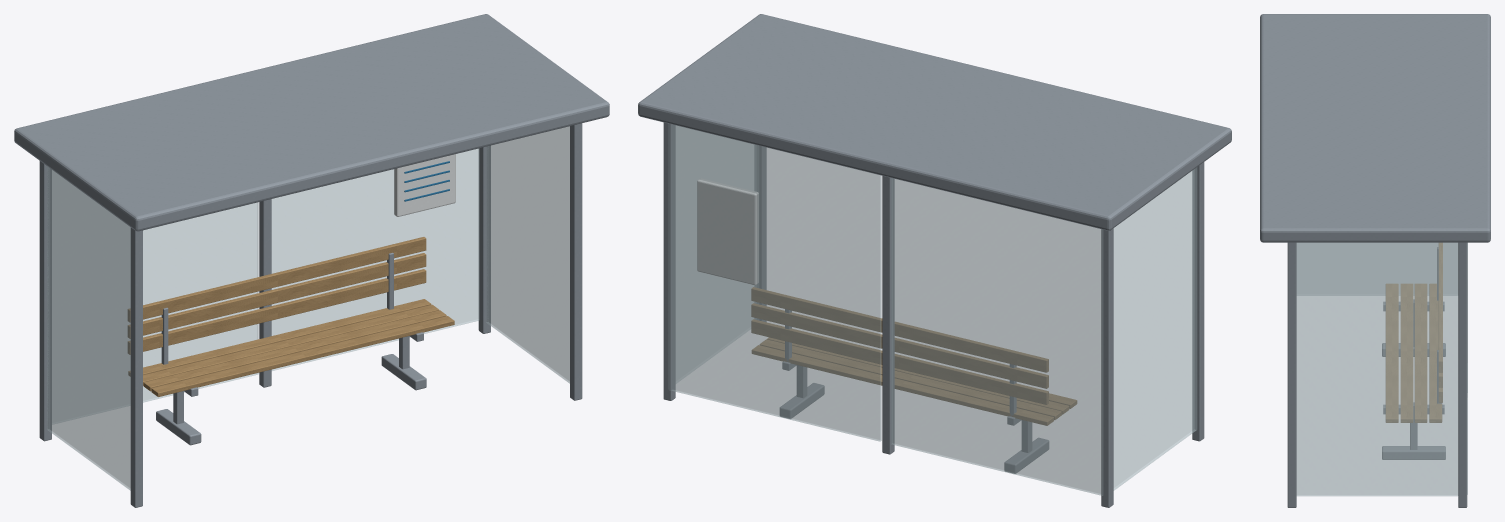
Rendered from bus-shelter.glb.
3 renders of one model, left to right at view 1: azimuth 30°, elevation 25°; view 2: azimuth 150°, elevation 25°; view 3: azimuth 270°, elevation 25°, orthographic. The views are drawn at different scales.
Visible parts, largest first — view 1: Shelter roof, Rear windscreen, Side windscreen, Rear windscreen.001, Side windscreen.001, Bench back slat.002, Bench back slat, Bench back slat.001, Shelter front post, Shelter front post.001, Shelter rear post, Bench seat slat (+8 smaller); view 2: Shelter roof, Rear windscreen.001, Rear windscreen, Side windscreen, Side windscreen.001, Timetable panel, Bench back slat.002, Bench back slat, Bench back slat.001, Shelter rear post, Shelter rear post.001, Shelter rear post.002 (+7 smaller); view 3: Shelter roof, Side windscreen.001, Side windscreen, Shelter front post.001, Shelter rear post.002, Bench seat slat, Bench seat slat.001, Bench seat slat.002, Bench seat slat.003, Bench support foot.001, Bench back slat.002.
Part boxes in pixels (x1,y1,x2,y2): Shelter roof: (14, 14, 609, 231); Rear windscreen: (52, 170, 258, 424); Side windscreen: (47, 166, 130, 490); Rear windscreen.001: (271, 148, 479, 370); Side windscreen.001: (486, 126, 569, 383); Bench back slat.002: (128, 237, 426, 322); Bench back slat: (128, 269, 426, 354); Bench back slat.001: (128, 253, 426, 338); Shelter front post: (130, 227, 142, 507); Shelter front post.001: (570, 123, 582, 400); Shelter rear post: (39, 161, 51, 441); Bench seat slat: (151, 316, 454, 396); Shelter roof: (638, 14, 1231, 230); Rear windscreen.001: (668, 124, 881, 441); Rear windscreen: (891, 178, 1102, 495); Side windscreen: (1113, 167, 1196, 490); Side windscreen.001: (676, 126, 756, 383); Timetable panel: (697, 178, 758, 285); Bench back slat.002: (751, 287, 1048, 372); Bench back slat: (751, 319, 1048, 404); Bench back slat.001: (751, 303, 1048, 388); Shelter rear post: (1101, 228, 1113, 507); Shelter rear post.001: (882, 176, 894, 454); Shelter rear post.002: (663, 122, 675, 400); Shelter roof: (1260, 14, 1490, 242); Side windscreen.001: (1296, 242, 1458, 496); Side windscreen: (1297, 243, 1457, 295); Shelter front post.001: (1287, 242, 1296, 507); Shelter rear post.002: (1458, 242, 1467, 507); Bench seat slat: (1386, 284, 1398, 422); Bench seat slat.001: (1401, 284, 1412, 422); Bench seat slat.002: (1415, 284, 1426, 422); Bench seat slat.003: (1429, 284, 1441, 422); Bench support foot.001: (1382, 446, 1445, 459); Bench back slat.002: (1439, 243, 1442, 372).
Bounding box in the file's own units: 4 × 2.45 × 1.8.
5 materials, 5 textured.
